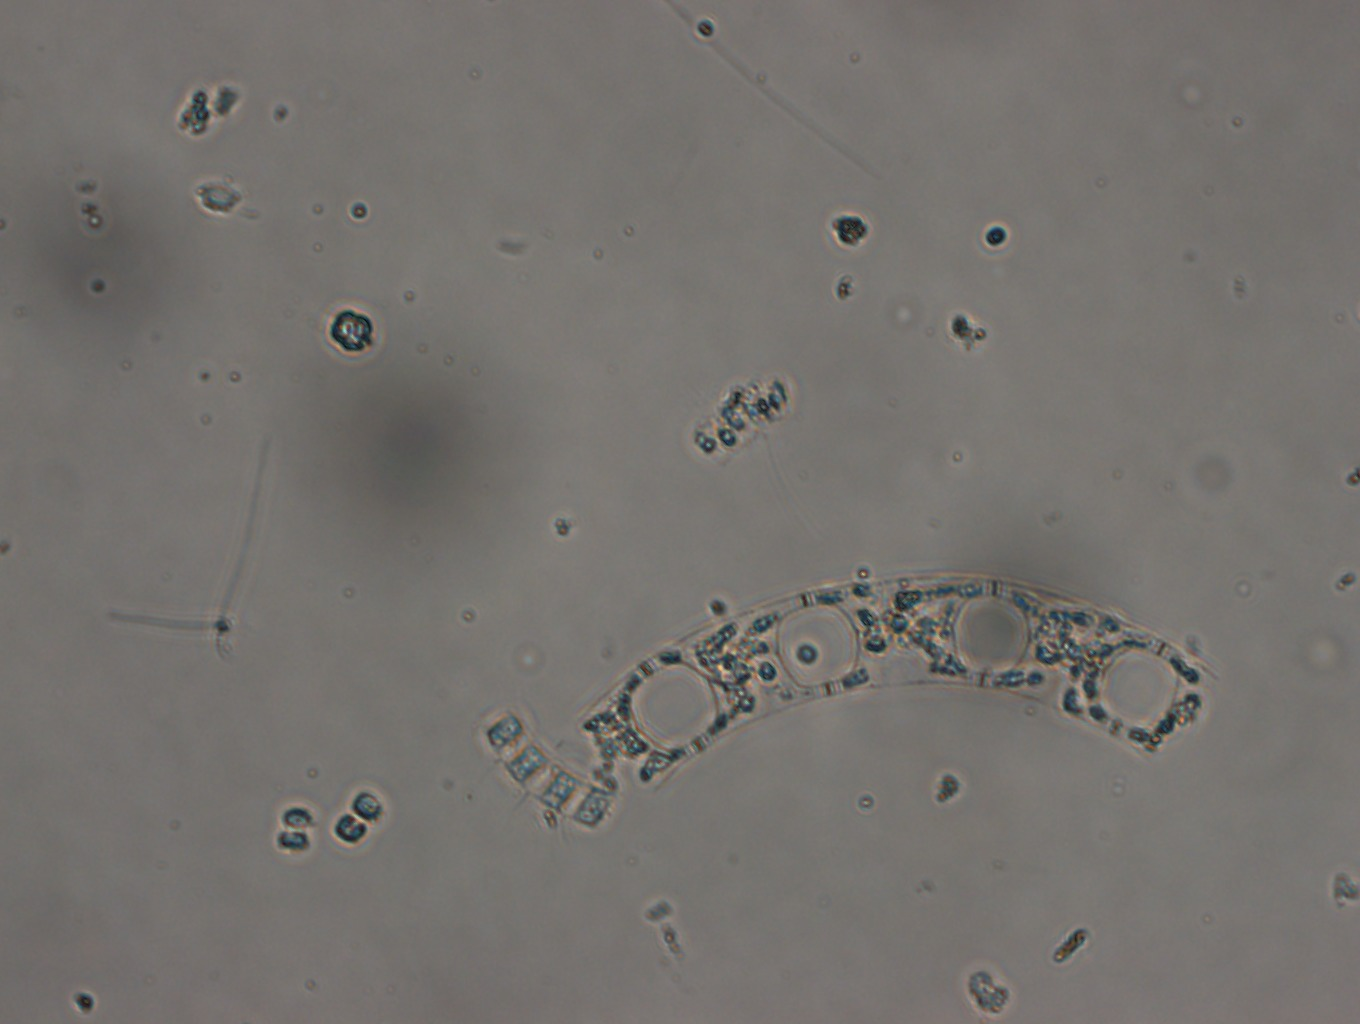eucampia: (597, 566, 1219, 797)
